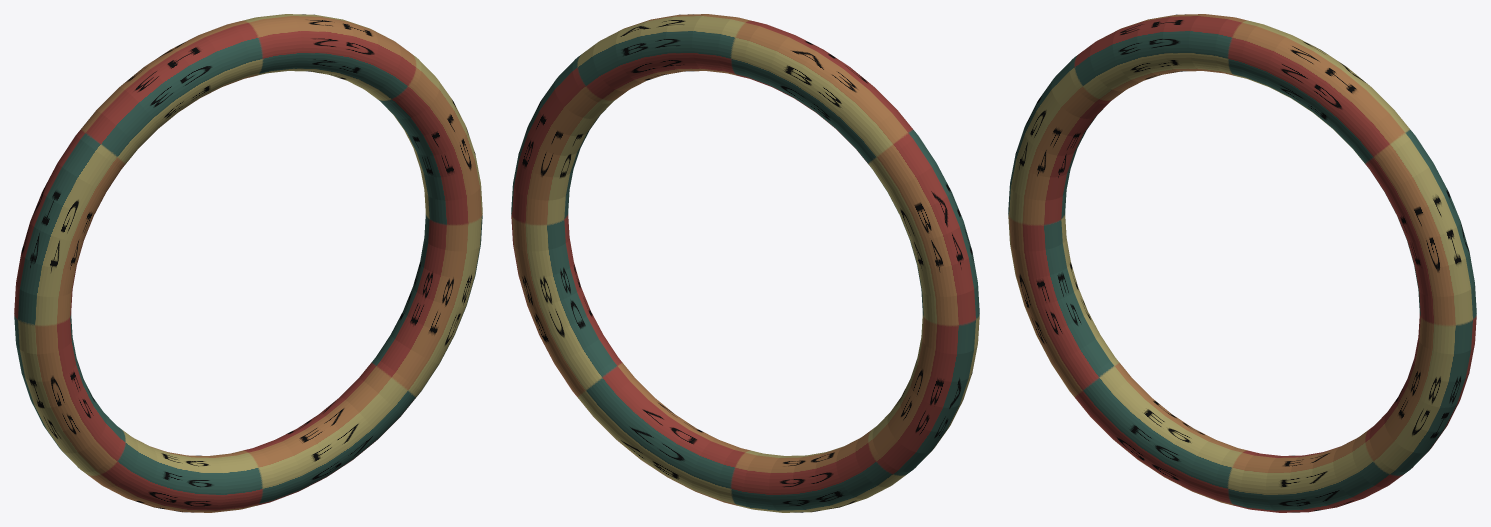
Rendered from texture_torus_R30_r6.glb.
3 views of the same model, side by side, from view 1: azimuth 30°, elevation 25°; view 2: azimuth 150°, elevation 25°; view 3: azimuth 330°, elevation 25° (orthographic).
Parts seen in each view (by area): view 1: world; view 2: world; view 3: world.
Boxes of the visible parts, box(x1,y1,x2,y2) form: world: box(14, 14, 482, 512); world: box(511, 14, 979, 512); world: box(1008, 14, 1476, 512).
Size of the model in its own units: 33.6 by 33.53 by 3.59.
1 material, 1 textured.
